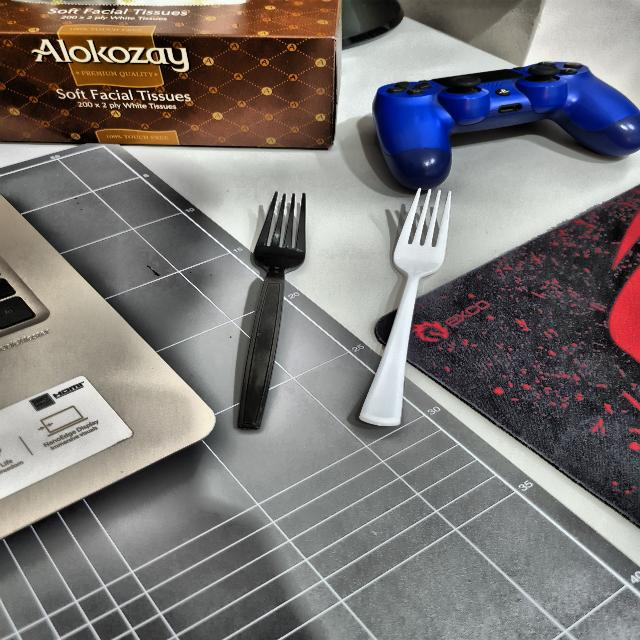plastic utensil: (356, 186, 462, 432), (218, 191, 312, 427)
